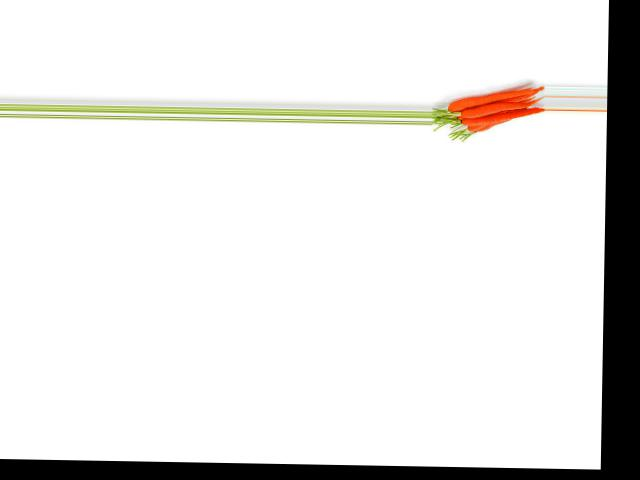carrot: (445, 88, 543, 107)
